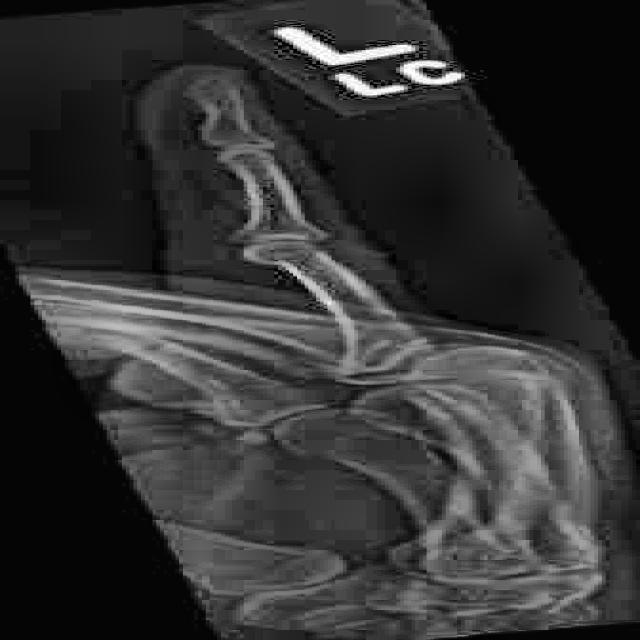fingers positive: (254, 415, 454, 472)
